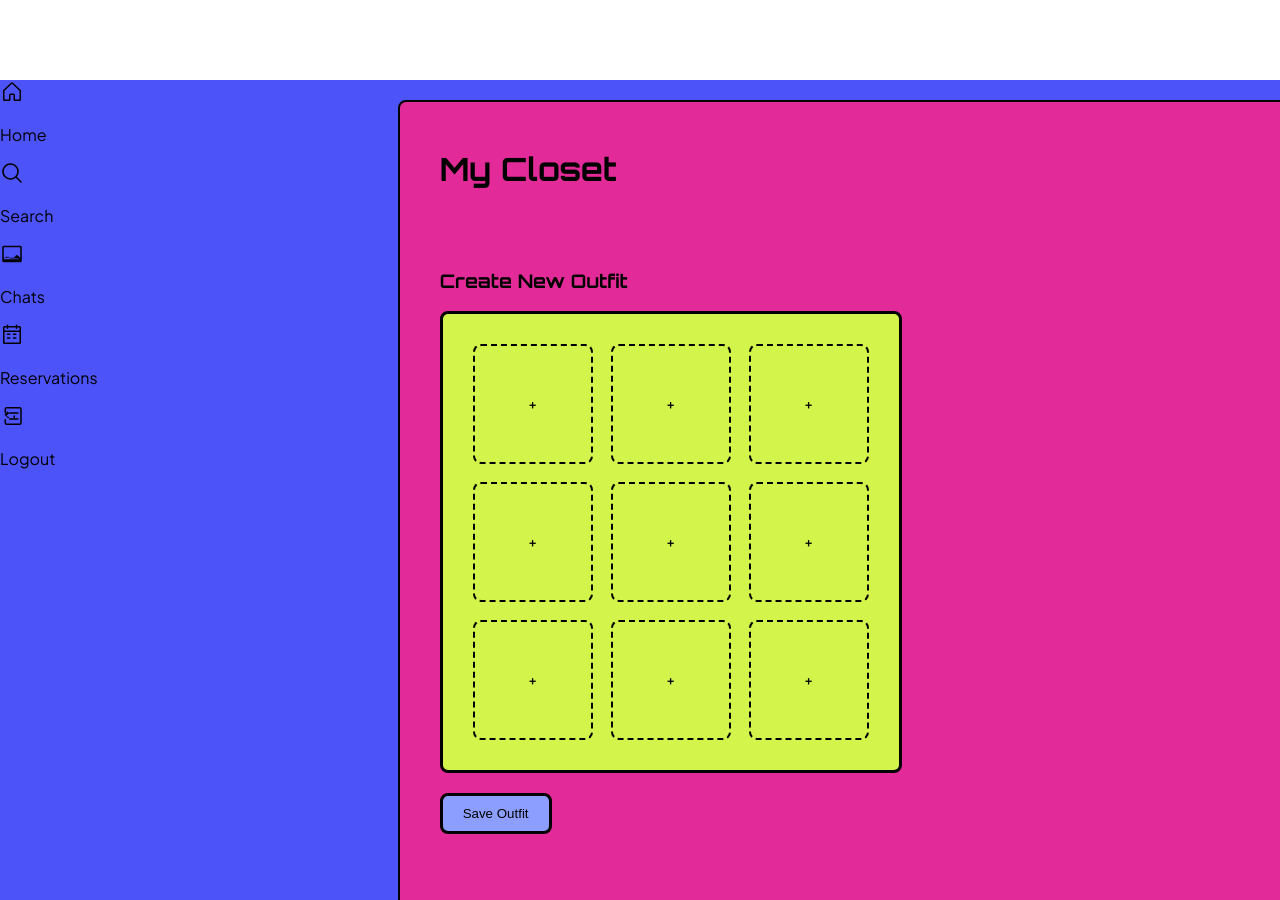
Test case: MyCloset Component › Item Selection Popup › closes popup when close button is clicked
Click the 1st text "+" at (533, 404), box [529, 394, 536, 414]
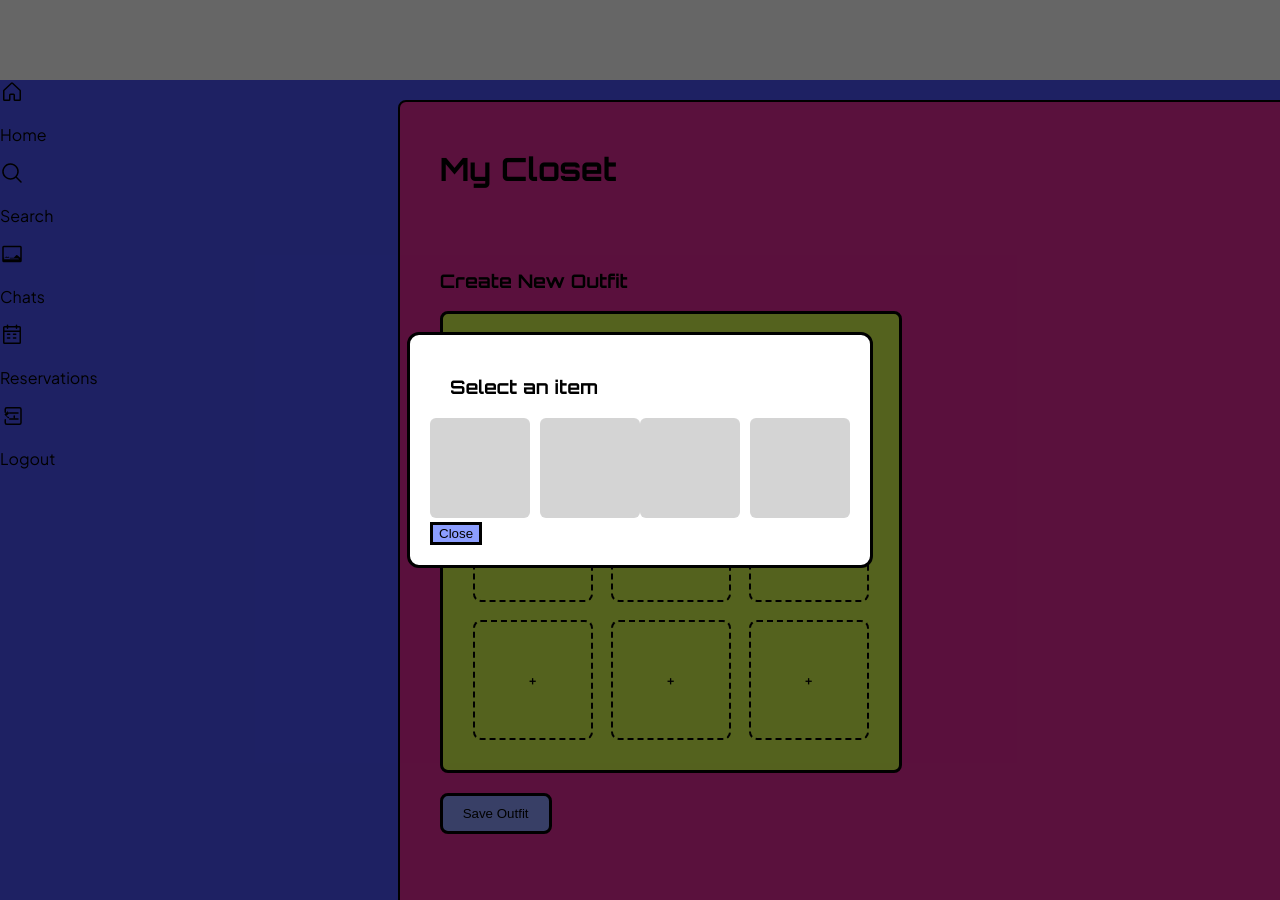
Check: the heading "Select an item" is shown, box [450, 375, 598, 399]
Click the button "Close" at (456, 533), box [430, 522, 482, 545]
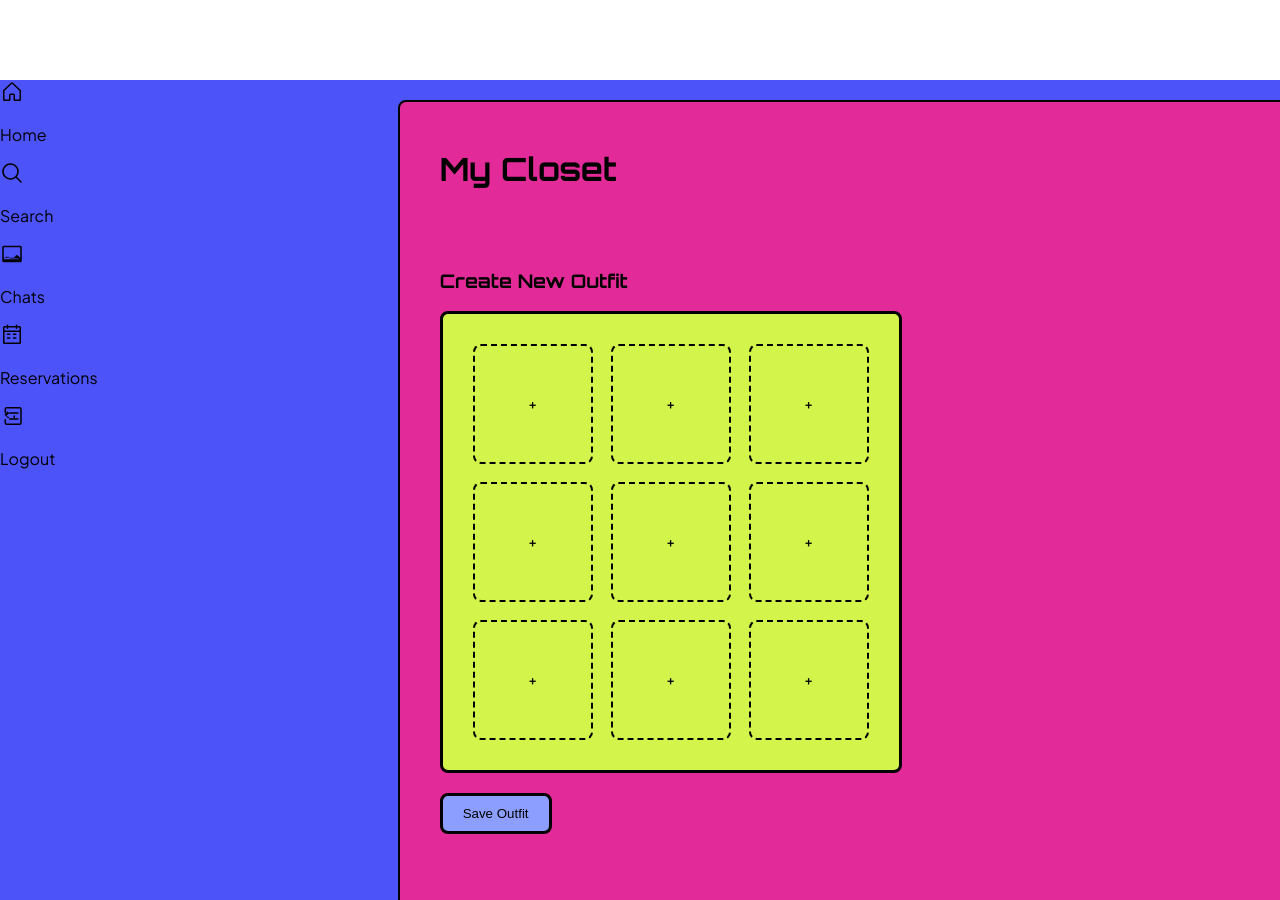
Check: the heading "Select an item" is gone
